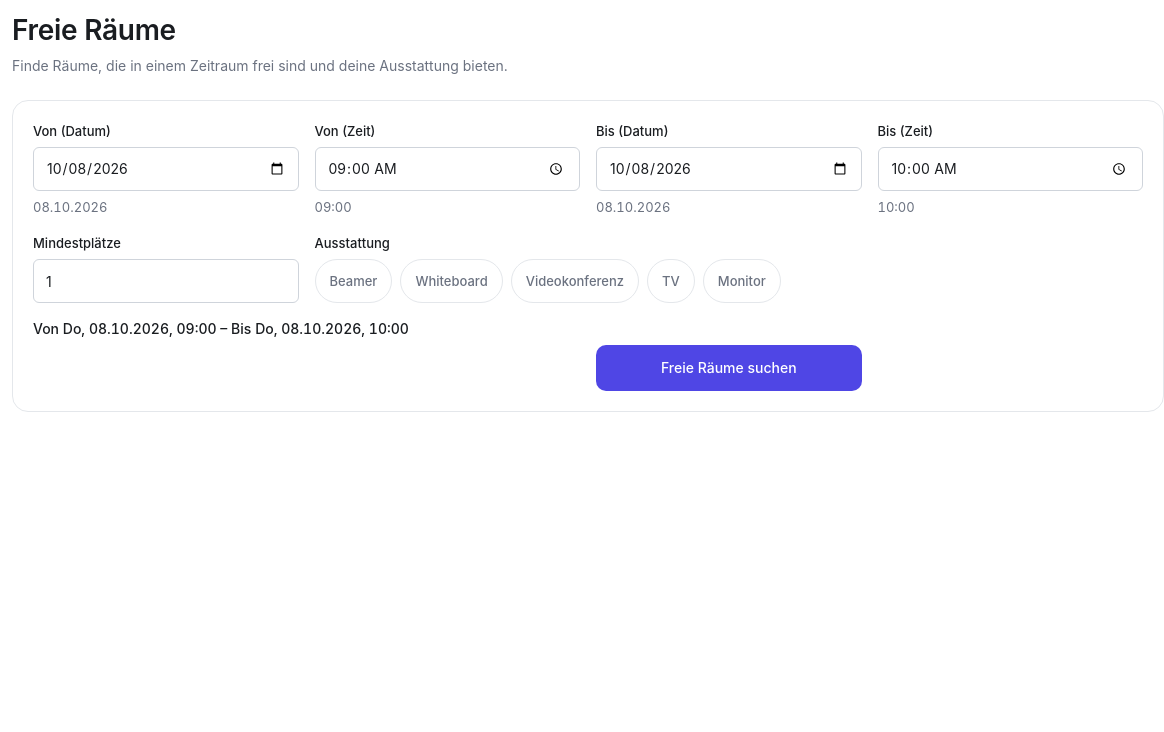
Test: RoomSearch › shows a loading skeleton while the search is running
This screenshot has width=1164, height=732.
Click the button "Freie Räume suchen" at (729,368), box 596,345 -> 862,391
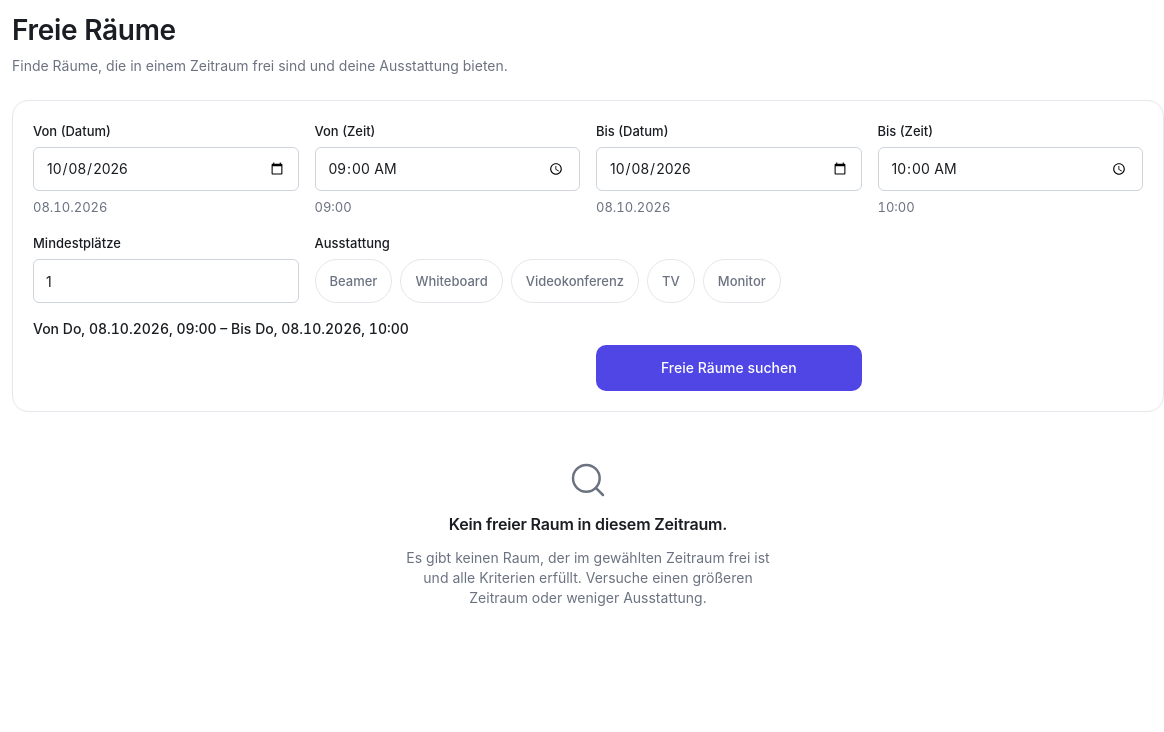
Now the element with test id "search-loading" is shown, box 406,460 -> 770,606
